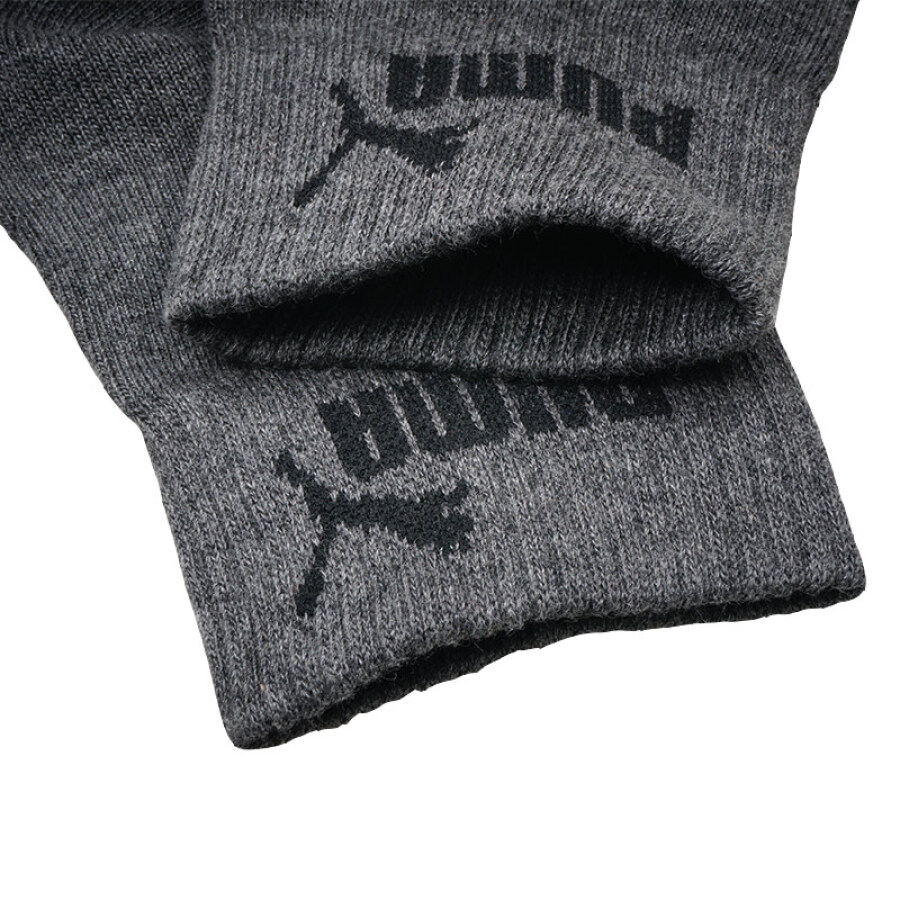Puma: (280, 33, 705, 218), (260, 441, 486, 625)
